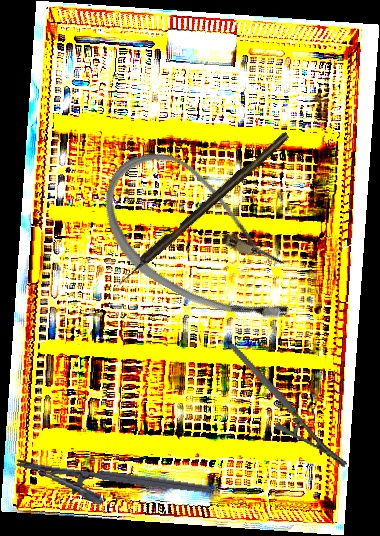Cannula: (78, 135, 328, 345)
Hook Surgical: (113, 130, 292, 288)
Needle Holder: (228, 319, 350, 491), (12, 457, 212, 521)
